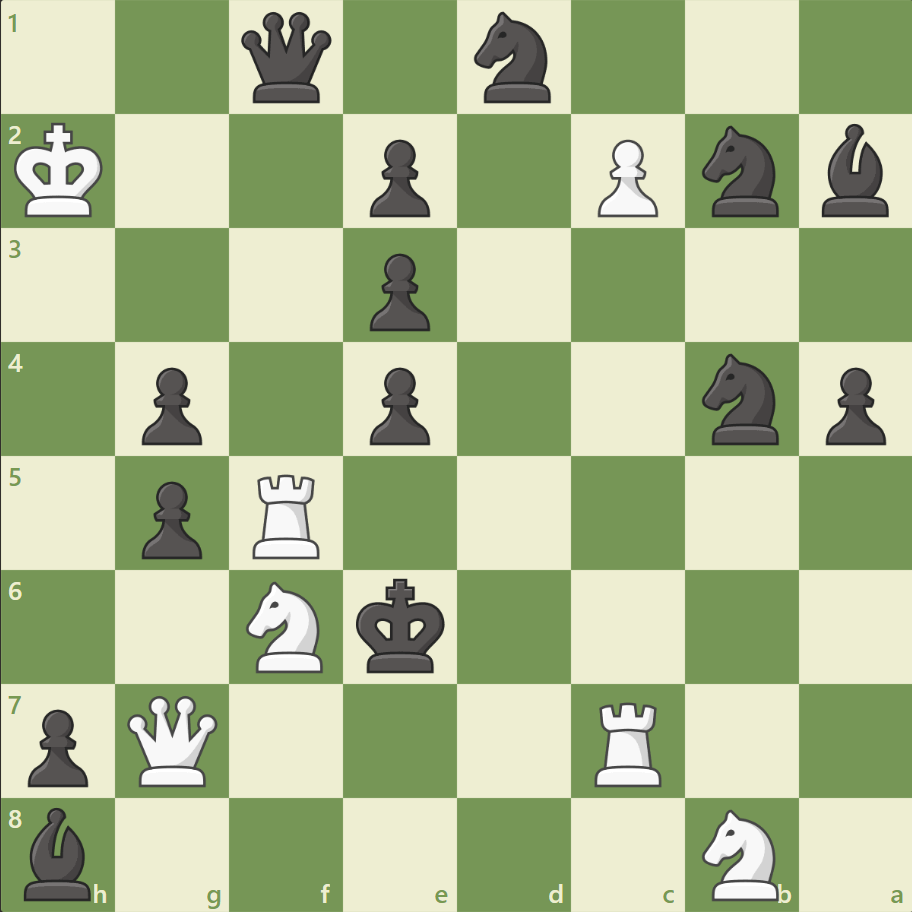K: (11, 117, 111, 225)
N: (692, 802, 789, 904), (238, 575, 335, 677)
P: (588, 132, 662, 223)
Q: (124, 690, 223, 789)
R: (587, 693, 670, 790), (246, 466, 329, 563)
b: (17, 801, 101, 904), (812, 120, 896, 222)
k: (351, 571, 451, 679)
n: (465, 7, 562, 110), (692, 348, 789, 450), (692, 121, 789, 223)
p: (20, 700, 95, 791), (133, 473, 208, 564), (133, 359, 208, 450), (815, 359, 889, 450), (361, 359, 435, 450), (361, 246, 435, 337), (361, 132, 435, 223)
q: (237, 9, 336, 108)
